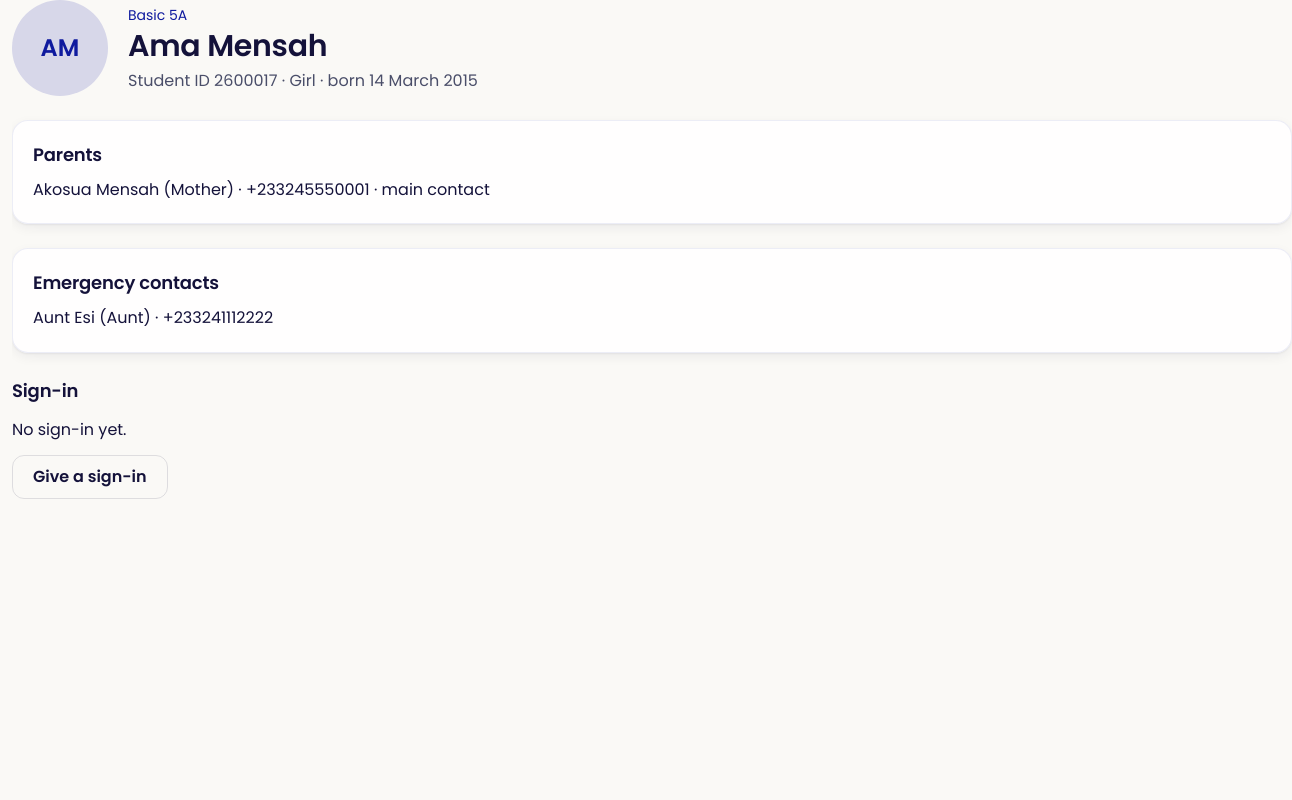
Scenario: ClassPupilView › shows the class teacher parent and emergency contacts, and issues a sign-in
Expected: the heading "Ama Mensah" is shown, [128, 25, 327, 67]
Expected: the list item "Akosua Mensah (Mother) · +233245550001 · main contact" is shown, [33, 178, 490, 201]
Click the button "Give a sign-in" at (90, 477), box [12, 455, 168, 499]
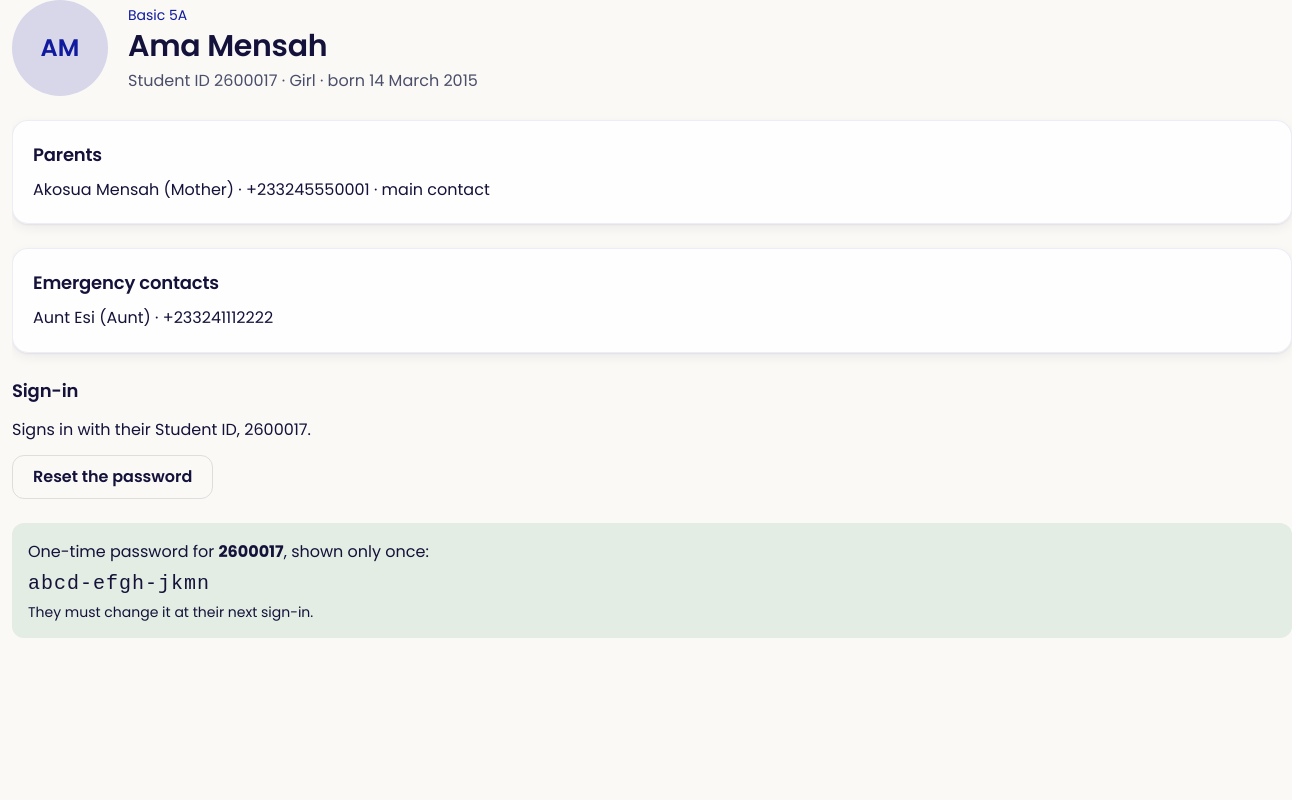
Result: the text with test id "one-time-password" reads "abcd-efgh-jkmn" at [28, 572, 210, 595]
